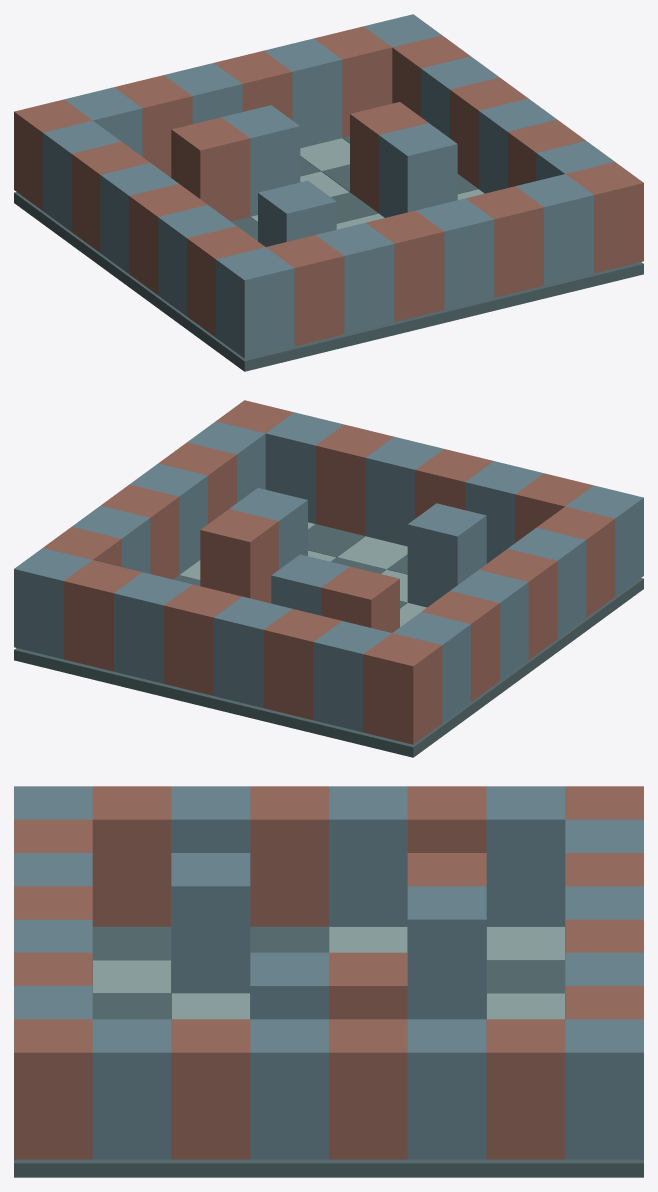
3 renders of one model, top to bottom at view 1: azimuth 30°, elevation 25°; view 2: azimuth 150°, elevation 25°; view 3: azimuth 270°, elevation 25°, orthographic. The views are drawn at different scales.
Visible parts, largest first — view 1: Floor, Wall 0,7, Wall 2,2, Wall 5,4, Wall 3,7, Wall 2,7, Wall 4,7, Wall 1,7, Wall 7,7, Wall 6,7, Wall 5,7, Wall 5,0 (+25 smaller); view 2: Floor, Wall 0,0, Wall 2,5, Wall 5,3, Wall 3,0, Wall 5,7, Wall 2,0, Wall 4,0, Wall 1,0, Wall 7,0, Wall 6,0, Wall 5,0 (+24 smaller); view 3: Floor, Wall 0,1, Wall 7,1, Wall 7,2, Wall 7,5, Wall 0,6, Wall 7,6, Wall 2,5, Wall 7,0, Wall 0,3, Wall 7,3, Wall 0,4 (+31 smaller).
Part boxes in pixels (x1,y1,x2,y2): Floor: (14, 136, 643, 371); Wall 0,7: (215, 247, 294, 358); Wall 2,2: (171, 117, 250, 221); Wall 5,4: (379, 123, 457, 217); Wall 3,7: (366, 210, 444, 321); Wall 2,7: (316, 223, 394, 334); Wall 4,7: (415, 198, 494, 309); Wall 1,7: (266, 235, 344, 346); Wall 7,7: (565, 162, 643, 273); Wall 6,7: (515, 174, 593, 285); Wall 5,7: (466, 186, 543, 297); Wall 5,0: (264, 38, 342, 147); Floor: (14, 522, 643, 757); Wall 0,0: (363, 633, 442, 744); Wall 2,5: (407, 503, 486, 607); Wall 5,3: (200, 509, 278, 603); Wall 3,0: (213, 596, 291, 707); Wall 5,7: (315, 424, 393, 535); Wall 2,0: (263, 609, 341, 720); Wall 4,0: (163, 584, 242, 695); Wall 1,0: (313, 621, 391, 732); Wall 7,0: (14, 548, 92, 659); Wall 6,0: (64, 560, 142, 671); Wall 5,0: (114, 572, 191, 683); Floor: (14, 926, 643, 1177); Wall 0,1: (486, 786, 565, 926); Wall 7,1: (486, 1019, 565, 1159); Wall 7,2: (407, 1019, 486, 1159); Wall 7,5: (171, 1019, 250, 1159); Wall 0,6: (92, 786, 171, 926); Wall 7,6: (92, 1019, 171, 1159); Wall 2,5: (171, 853, 250, 993); Wall 7,0: (565, 1019, 643, 1159); Wall 0,3: (329, 786, 407, 926); Wall 7,3: (329, 1019, 407, 1159); Wall 0,4: (250, 786, 328, 926).
Size of the model in its own units: 8 by 1.75 by 8.
